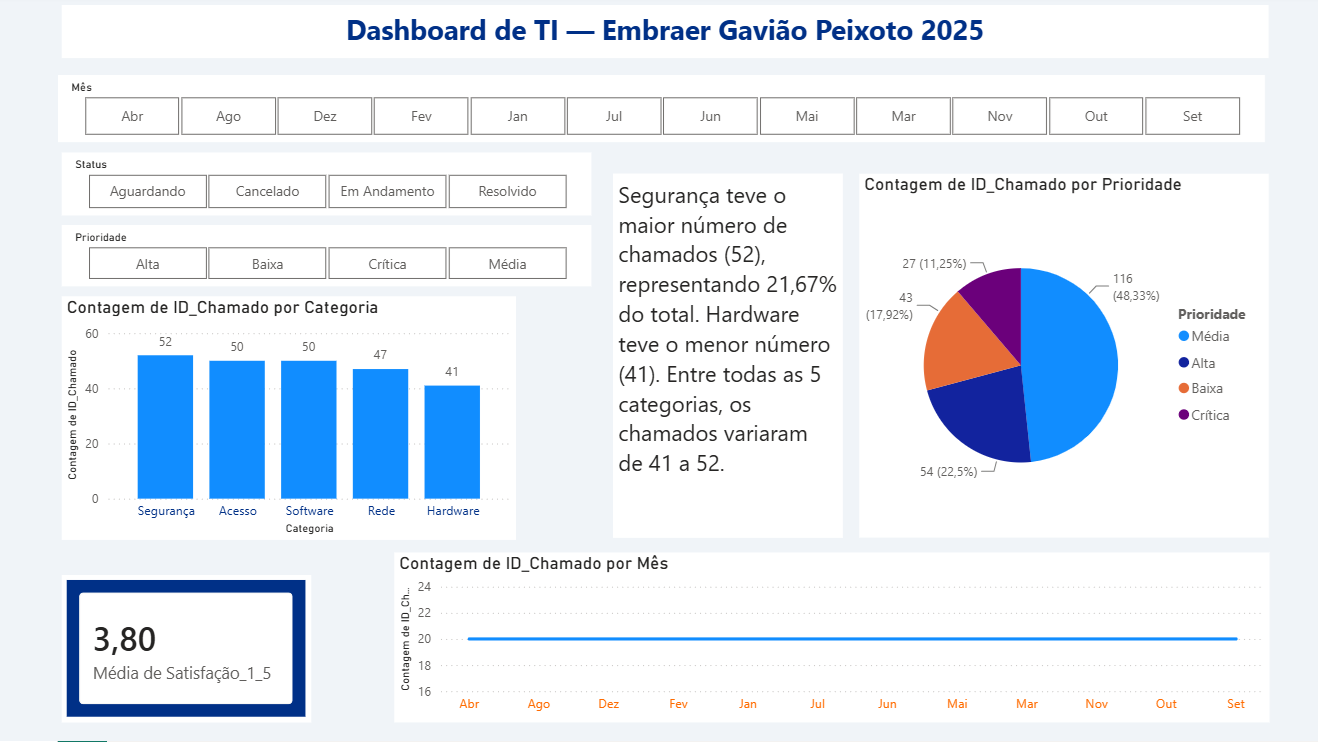

This screenshot's page, from the dashboard's own definition file:
{"tool":"powerbi","page":{"name":"Página 1","canvas":[1280,720],"ordinal":0},"visuals":[{"type":"columnChart","fields":{"Category":["CONTROLE DE CHAMADOS DE TI – EMBRAER GAVIÃO PEIXOTO (2025) (Chamados_TI).Categoria"],"Y":["CountNonNull(CONTROLE DE CHAMADOS DE TI – EMBRAER GAVIÃO PEIXOTO (2025) (Chamados_TI).ID_Chamado)"]},"box":[61.9,290.5,438.4,235.3],"z":0},{"type":"textbox","box":[593.1,172.1,221.9,351],"z":1},{"type":"lineChart","fields":{"Category":["CONTROLE DE CHAMADOS DE TI – EMBRAER GAVIÃO PEIXOTO (2025) (Chamados_TI).Mês"],"Y":["CountNonNull(CONTROLE DE CHAMADOS DE TI – EMBRAER GAVIÃO PEIXOTO (2025) (Chamados_TI).ID_Chamado)"]},"box":[381.9,537.9,844.5,164.1],"z":2},{"type":"pieChart","fields":{"Category":["CONTROLE DE CHAMADOS DE TI – EMBRAER GAVIÃO PEIXOTO (2025) (Chamados_TI).Prioridade"],"Y":["CountNonNull(CONTROLE DE CHAMADOS DE TI – EMBRAER GAVIÃO PEIXOTO (2025) (Chamados_TI).ID_Chamado)"]},"box":[831.1,172.1,395.4,351],"z":3},{"type":"cardVisual","fields":{"Data":["Avg(CONTROLE DE CHAMADOS DE TI – EMBRAER GAVIÃO PEIXOTO (2025) (Chamados_TI).Satisfação_1_5)"]},"box":[61.9,559.4,240.7,142.6],"z":4},{"type":"textbox","box":[61.9,9.4,1164.6,51.1],"z":5},{"type":"slicer","fields":{"Values":["CONTROLE DE CHAMADOS DE TI – EMBRAER GAVIÃO PEIXOTO (2025) (Chamados_TI).Mês"]},"box":[61.9,79.3,1164.6,64.6],"z":6},{"type":"slicer","fields":{"Values":["CONTROLE DE CHAMADOS DE TI – EMBRAER GAVIÃO PEIXOTO (2025) (Chamados_TI).Prioridade"]},"box":[61.9,221.9,511,59.2],"z":7},{"type":"slicer","fields":{"Values":["CONTROLE DE CHAMADOS DE TI – EMBRAER GAVIÃO PEIXOTO (2025) (Chamados_TI).Status"]},"box":[61.9,152,511,60.5],"z":8}]}

Visuals, with their boxes in screenshot pixels (x1, y1, x2, y2), scaled from the page's 1280x720 canvas onto the 1318x742 screenshot:
columnChart - CONTROLE DE CHAMADOS DE TI – EMBRAER GAVIÃO PEIXOTO (2025) (Chamados_TI).Categoria x CountNonNull(CONTROLE DE CHAMADOS DE TI – EMBRAER GAVIÃO PEIXOTO (2025) (Chamados_TI).ID_Chamado): x1=64, y1=299, x2=515, y2=542
textbox: x1=611, y1=177, x2=839, y2=539
lineChart - CONTROLE DE CHAMADOS DE TI – EMBRAER GAVIÃO PEIXOTO (2025) (Chamados_TI).Mês x CountNonNull(CONTROLE DE CHAMADOS DE TI – EMBRAER GAVIÃO PEIXOTO (2025) (Chamados_TI).ID_Chamado): x1=393, y1=554, x2=1263, y2=723
pieChart - CONTROLE DE CHAMADOS DE TI – EMBRAER GAVIÃO PEIXOTO (2025) (Chamados_TI).Prioridade x CountNonNull(CONTROLE DE CHAMADOS DE TI – EMBRAER GAVIÃO PEIXOTO (2025) (Chamados_TI).ID_Chamado): x1=856, y1=177, x2=1263, y2=539
cardVisual - Avg(CONTROLE DE CHAMADOS DE TI – EMBRAER GAVIÃO PEIXOTO (2025) (Chamados_TI).Satisfação_1_5): x1=64, y1=576, x2=312, y2=723
textbox: x1=64, y1=10, x2=1263, y2=62
slicer - CONTROLE DE CHAMADOS DE TI – EMBRAER GAVIÃO PEIXOTO (2025) (Chamados_TI).Mês: x1=64, y1=82, x2=1263, y2=148
slicer - CONTROLE DE CHAMADOS DE TI – EMBRAER GAVIÃO PEIXOTO (2025) (Chamados_TI).Prioridade: x1=64, y1=229, x2=590, y2=290
slicer - CONTROLE DE CHAMADOS DE TI – EMBRAER GAVIÃO PEIXOTO (2025) (Chamados_TI).Status: x1=64, y1=157, x2=590, y2=219
